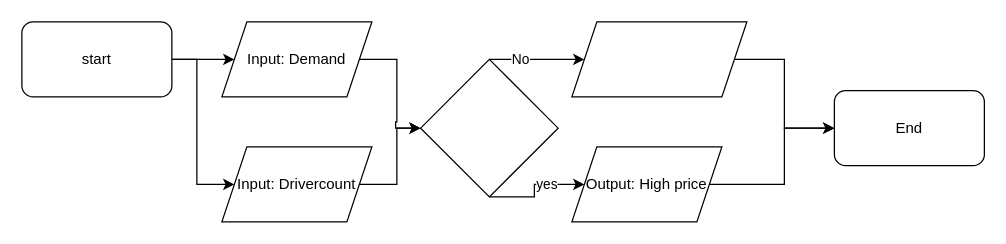
Some shapes in this 1006 by 244 pixel diagram are drawn without their labels. The shapes that lost their labels are listed below. From the top down, each one's centre as x and y in pixels, then its label:
[659,59]: Output: Total distance - "distance"
[488,127]: is Demand >2*Drivercount
